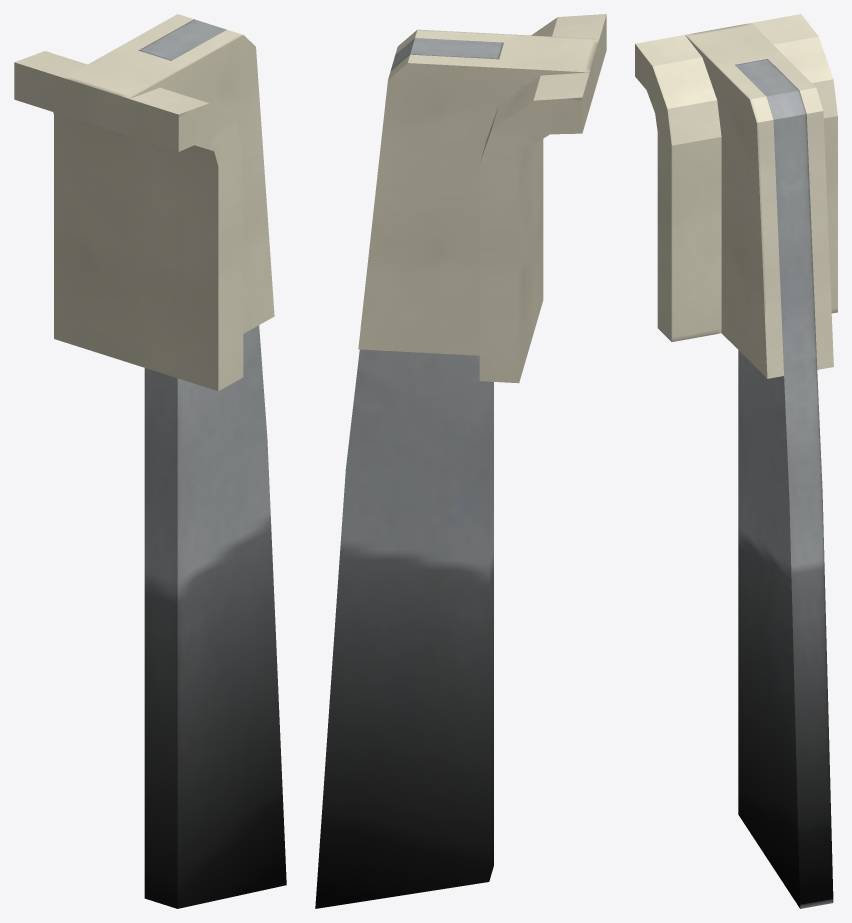
File: Sling2.fbx
3 views of the same model, side by side, from view 1: azimuth 30°, elevation 25°; view 2: azimuth 150°, elevation 25°; view 3: azimuth 270°, elevation 25° (orthographic). The views are drawn at different scales.
Parts seen in each view (by area): view 1: Sling2; view 2: Sling2; view 3: Sling2.
Part boxes in pixels (x1,y1,x2,y2): Sling2: (14, 14, 286, 908); Sling2: (315, 14, 606, 908); Sling2: (635, 14, 837, 908).
Size of the model in its own units: 1.56 by 4.88 by 1.15.
Materials: 1 (1 with a texture image).
